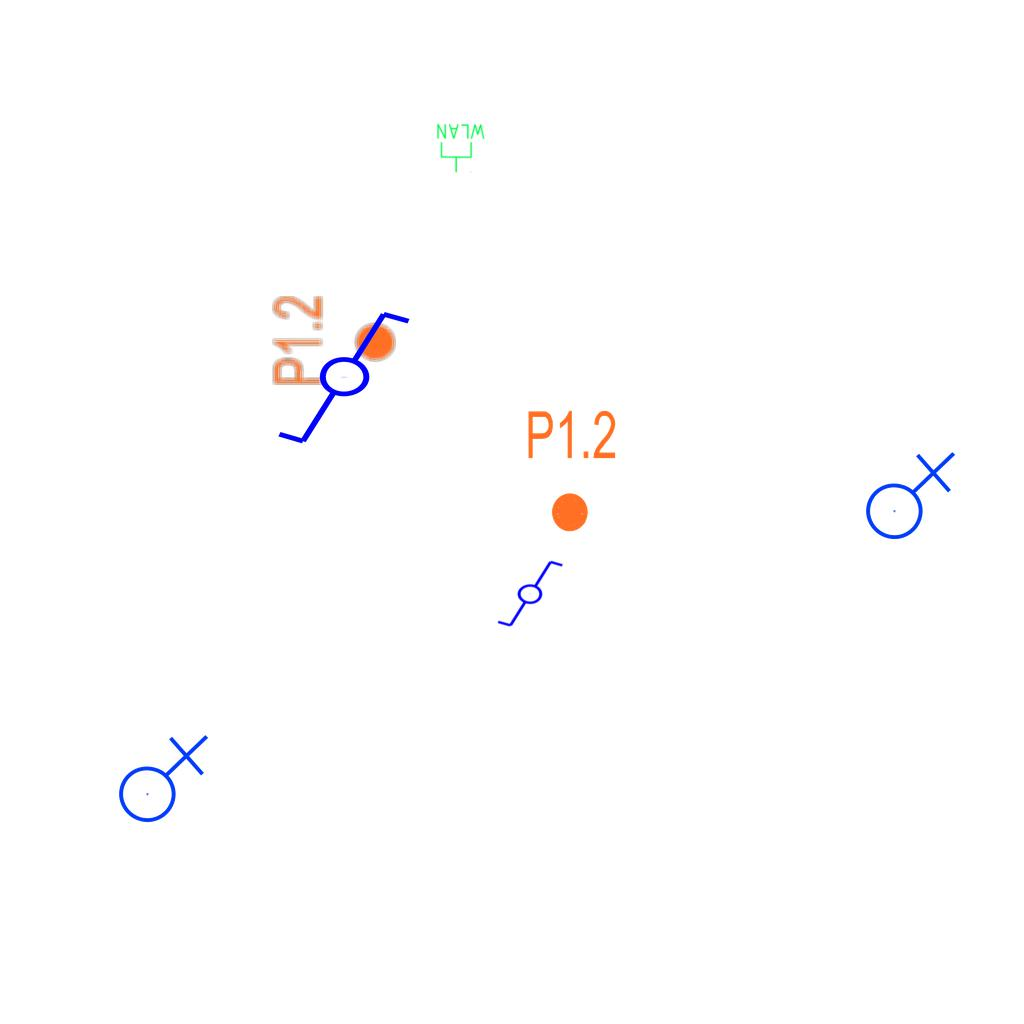Downlight_LED_Einbauleuchten_Flur: (525, 407, 618, 535), (270, 294, 398, 387)
Elektroanschluss_allgemein_230V_Geraeteanschlussdose_230V: (857, 447, 956, 541), (110, 730, 209, 824)
WLAN: (435, 122, 487, 174)
Wechselschalter: (274, 307, 431, 451), (487, 557, 565, 629)
